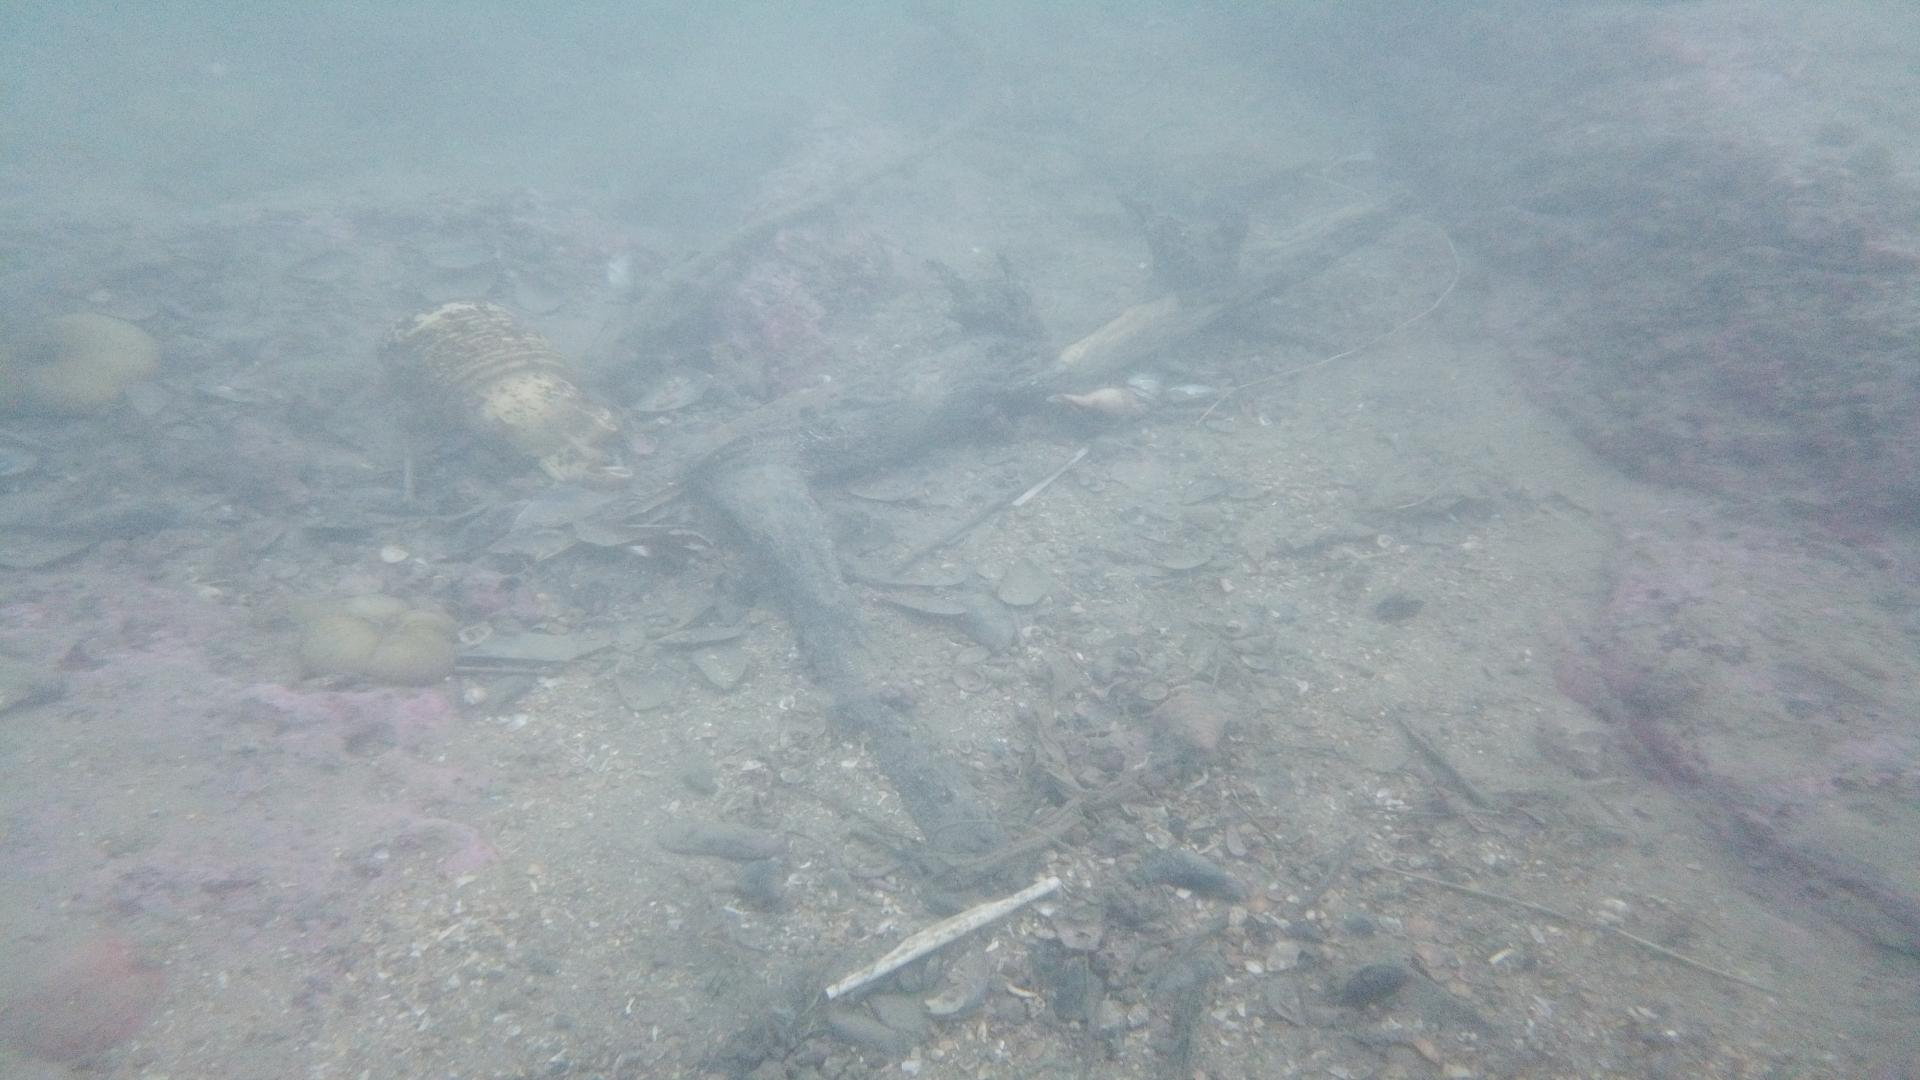rope: (599, 105, 982, 353)
wood: (680, 185, 1424, 857)
